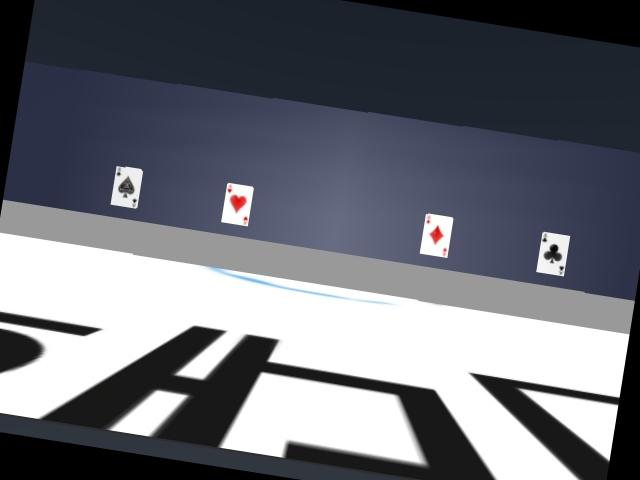club: (536, 232, 569, 275)
diamond: (420, 213, 453, 257)
heart: (221, 183, 253, 225)
spade: (111, 166, 142, 208)
